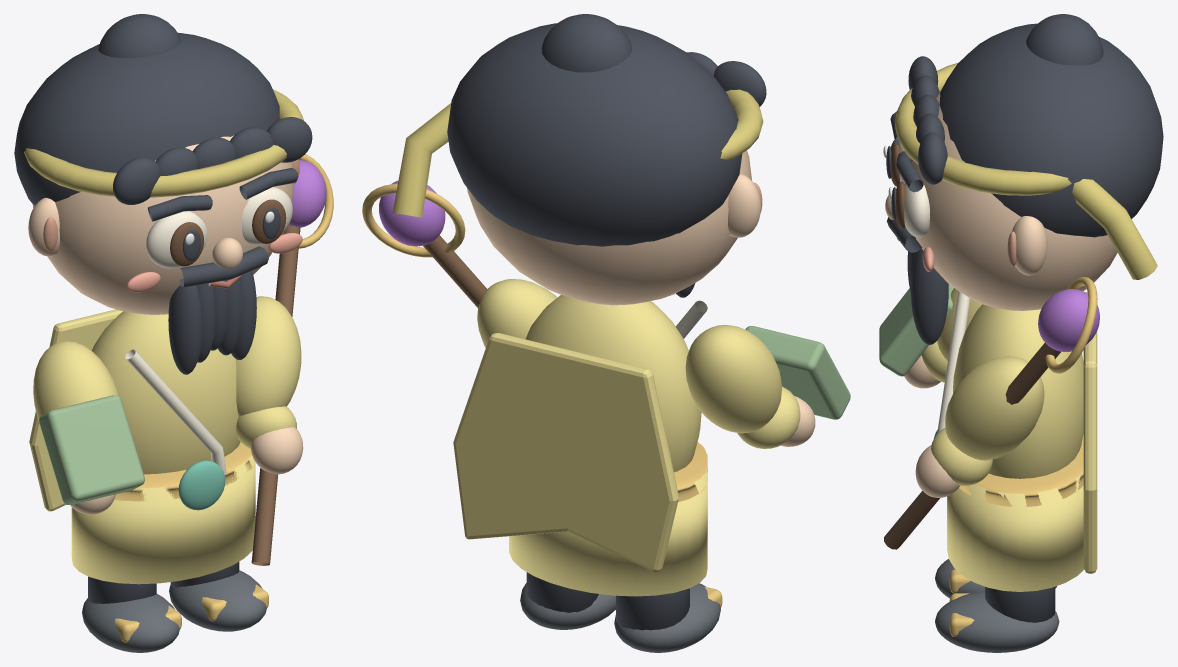
Rendered from yt_priest.fbx.
3 renders of one model, left to right at view 1: azimuth 30°, elevation 25°; view 2: azimuth 150°, elevation 25°; view 3: azimuth 270°, elevation 25°, orthographic. The views are drawn at different scales.
Parts seen in each view (by area): view 1: hair_mass, robe_skirt, face, body, medicine_book, headband, sleeve, sleeve.001, boot, boot.001, cape, spell_staff (+34 smaller); view 2: hair_mass, cape, face, body, robe_skirt, sleeve.001, medicine_book, hair_bun, sleeve, headband_tail, boot, leg (+11 smaller); view 3: hair_mass, face, robe_skirt, body, sleeve, headband, boot.001, cape, headband_tail, hair_bun, belt, medicine_book (+22 smaller).
Part boxes in pixels (x1,y1,x2,y2): hair_mass: (14,32,279,205); robe_skirt: (71,455,255,584); face: (32,135,294,314); body: (91,311,240,474); medicine_book: (39,395,144,504); headband: (24,89,303,197); sleeve: (236,296,301,416); sleeve.001: (33,341,119,421); boot: (82,594,179,652); boot.001: (169,570,266,631); cape: (29,309,122,511); spell_staff: (251,225,300,565); hair_mass: (447,23,742,246); cape: (453,333,678,572); face: (467,150,751,305); body: (525,295,701,472); robe_skirt: (509,466,707,596); sleeve.001: (685,325,781,433); medicine_book: (745,326,850,419); hair_bun: (541,14,631,72); sleeve: (477,279,557,347); headband_tail: (392,103,451,217); boot: (614,583,720,652); leg: (616,588,689,630); hair_mass: (939,23,1163,237); face: (904,91,1131,310); robe_skirt: (947,476,1084,591); body: (953,304,1083,478); sleeve: (945,356,1044,460); headband: (895,62,1071,195); boot.001: (935,591,1059,652); cape: (1083,291,1097,573); headband_tail: (1072,179,1157,279); hair_bun: (1026,14,1103,65); belt: (959,434,1083,506); medicine_book: (879,284,953,376).
Bounding box in the file's own units: 1.55 × 2.46 × 1.05.
